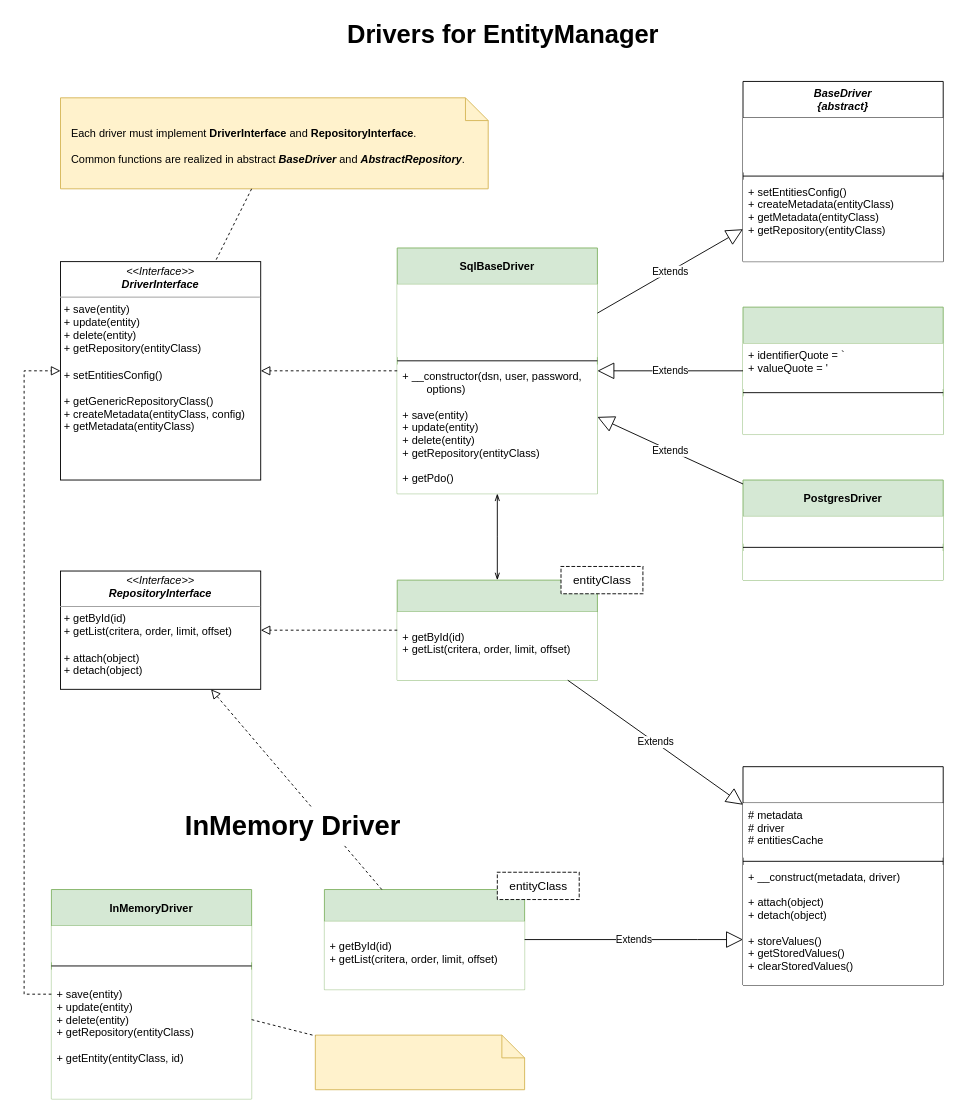
The diagram is 959 pixels wide and 1117 high, and some of its shapes have lost their labels. The box of each missing label's shape, as (x1, y1, x2, y2) in pixels:
# entitiesConfig # metaData: array # repositories: array: (743, 117, 943, 172)
+ identifierQuote = " + valueQuote = ' - pdo: (397, 284, 597, 357)
+ storage: (51, 925, 251, 962)
AbstractRepository {abstract}: (742, 766, 943, 985)
InMemoryDriver extends BaseDriver: (314, 1034, 525, 1090)
InMemoryGenericRepository: (324, 889, 525, 990)
MySqlDriver: (742, 306, 943, 435)
SqlGenericRepository: (396, 579, 597, 680)
